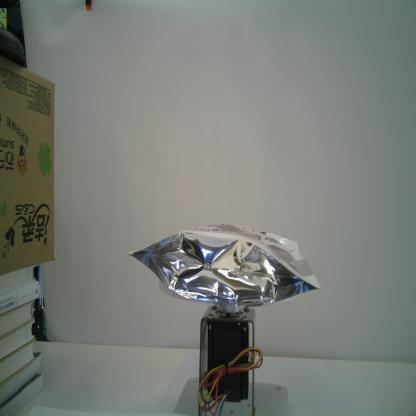Dried Food: (123, 219, 322, 310)
